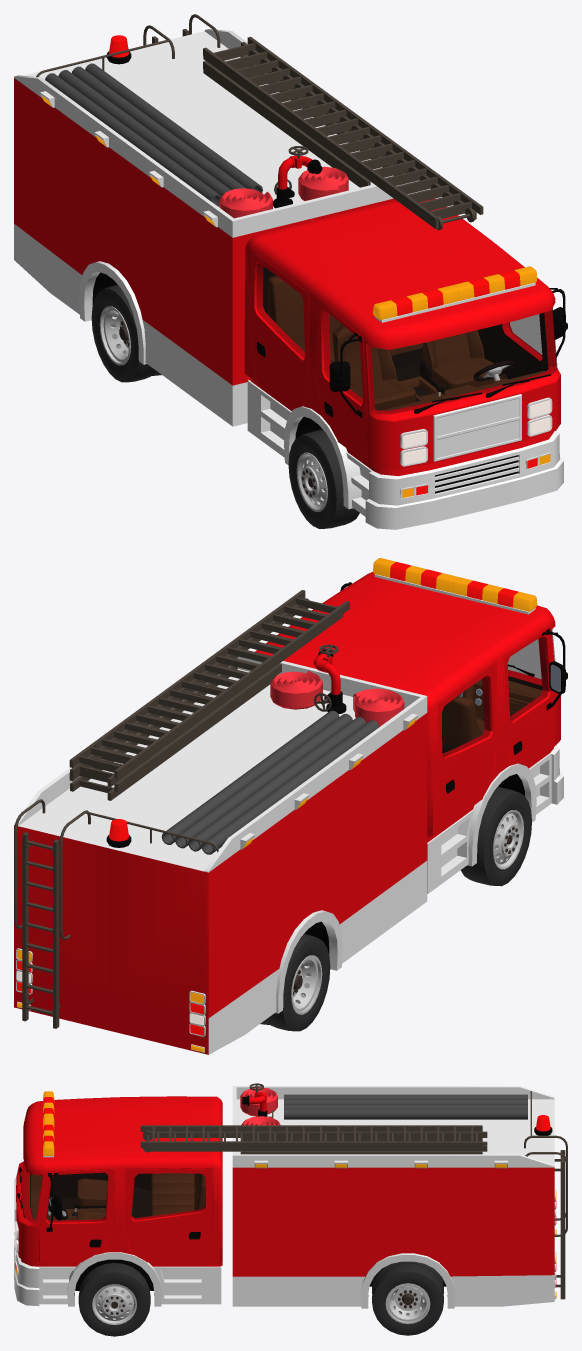
The model's file is firetwuck.glb.
3 renders of one model, top to bottom at view 1: azimuth 30°, elevation 25°; view 2: azimuth 150°, elevation 25°; view 3: azimuth 270°, elevation 25°, orthographic. The views are drawn at different scales.
Visible parts, largest first — view 1: Fire_Truck_01_Body, Fire_Truck_01_Props, Fire_Truck_01_Glass, Fire_Truck_01_Cabin, Fire_Truck_01_Lights, Fire_Truck_01_Wheel_FR, Fire_Truck_01_Wheel_RR; view 2: Fire_Truck_01_Body, Fire_Truck_01_Props, Fire_Truck_01_Glass, Fire_Truck_01_Wheel_FR, Fire_Truck_01_Lights, Fire_Truck_01_Wheel_RR, Fire_Truck_01_Cabin; view 3: Fire_Truck_01_Body, Fire_Truck_01_Props, Fire_Truck_01_Glass, Fire_Truck_01_Wheel_RL, Fire_Truck_01_Wheel_FL, Fire_Truck_01_Cabin, Fire_Truck_01_Lights.
Part boxes in pixels (x1,y1,x2,y2): Fire_Truck_01_Body: (14, 29, 567, 529); Fire_Truck_01_Props: (36, 14, 483, 229); Fire_Truck_01_Glass: (257, 263, 557, 413); Fire_Truck_01_Cabin: (268, 275, 545, 410); Fire_Truck_01_Lights: (41, 35, 550, 497); Fire_Truck_01_Wheel_FR: (288, 429, 359, 528); Fire_Truck_01_Wheel_RR: (91, 284, 161, 382); Fire_Truck_01_Body: (14, 572, 567, 1054); Fire_Truck_01_Props: (14, 590, 404, 1028); Fire_Truck_01_Glass: (442, 629, 555, 756); Fire_Truck_01_Wheel_FR: (460, 787, 531, 886); Fire_Truck_01_Lights: (17, 558, 537, 1052); Fire_Truck_01_Wheel_RR: (260, 934, 330, 1031); Fire_Truck_01_Cabin: (442, 679, 542, 753); Fire_Truck_01_Body: (14, 1086, 555, 1308); Fire_Truck_01_Props: (140, 1083, 567, 1299); Fire_Truck_01_Glass: (22, 1162, 204, 1222); Fire_Truck_01_Wheel_RL: (372, 1261, 443, 1335); Fire_Truck_01_Wheel_FL: (78, 1263, 150, 1336); Fire_Truck_01_Cabin: (30, 1173, 205, 1220); Fire_Truck_01_Lights: (14, 1091, 556, 1298).
Size of the model in its own units: 2.99 by 3.48 by 8.31.
Materials: 3 (2 with a texture image).
